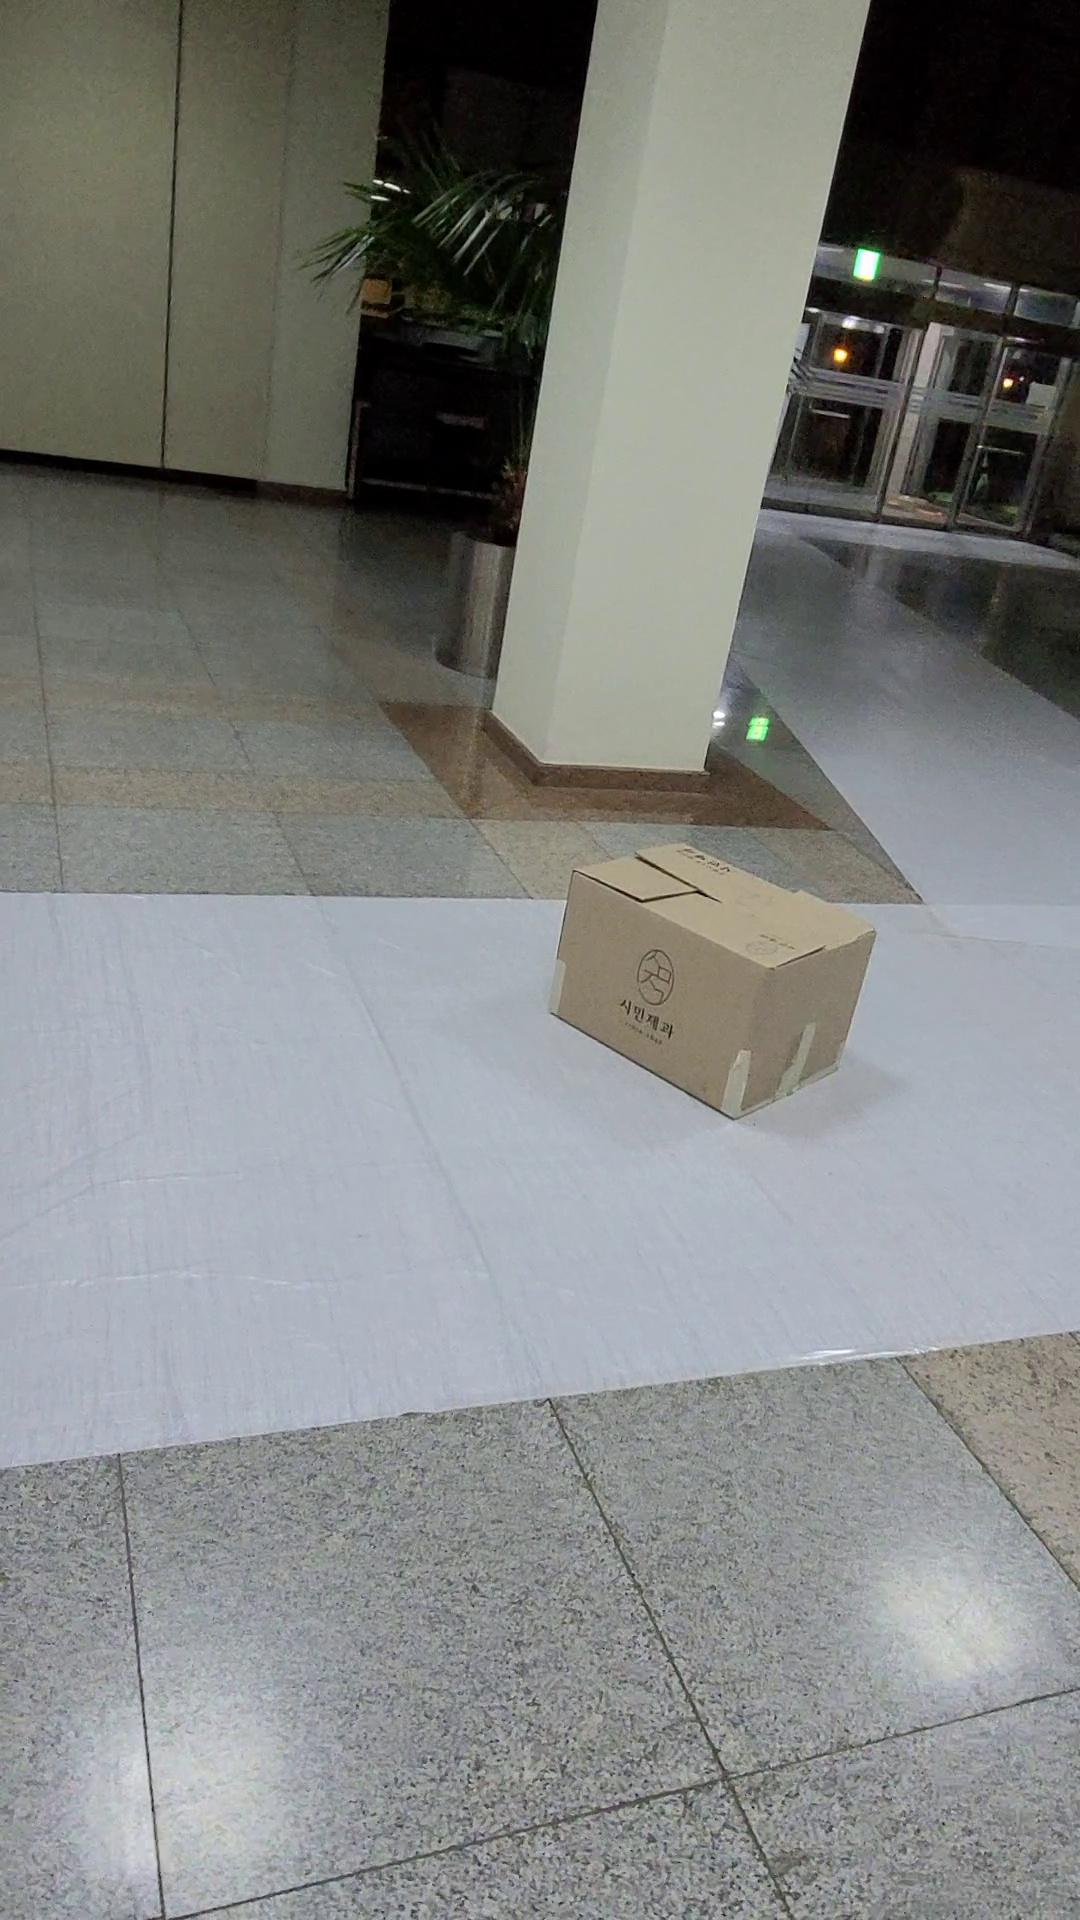Box: (512, 818, 910, 1155)
